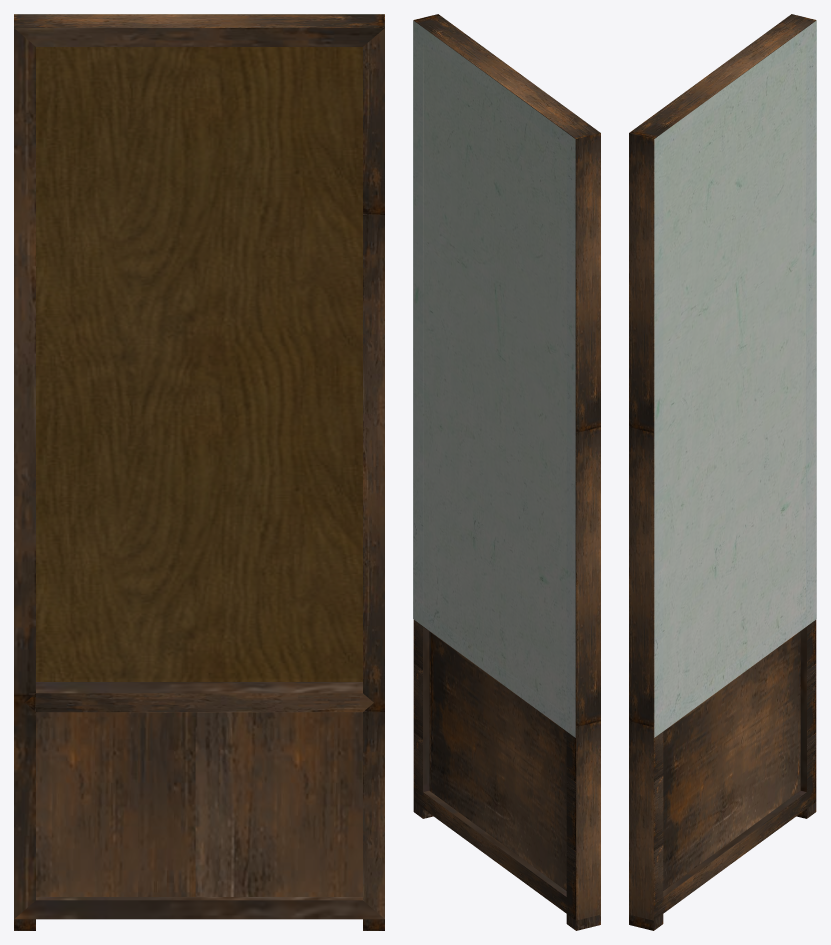
Rendered from 창호지 2.FBX.
3 renders of one model, left to right at view 1: azimuth 30°, elevation 25°; view 2: azimuth 150°, elevation 25°; view 3: azimuth 270°, elevation 25°, orthographic. The views are drawn at different scales.
Visible parts, largest first — view 1: 창호지 2; view 2: 창호지 2; view 3: 창호지 2.
Part boxes in pixels (x1=…): 창호지 2: x1=14, y1=14, x2=384, y2=930; 창호지 2: x1=413, y1=14, x2=600, y2=930; 창호지 2: x1=629, y1=14, x2=816, y2=930.
Bounding box in the file's own units: 24 × 70.8 × 15.22.
